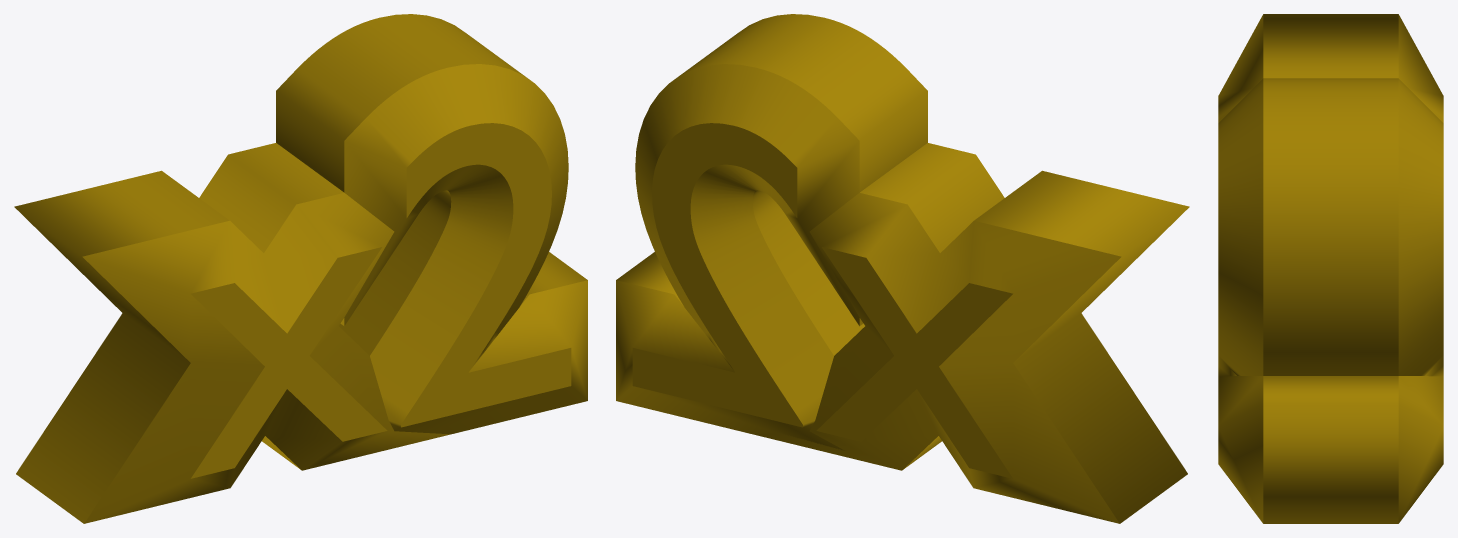
File: itemx2.dae
3 views of the same model, side by side, from view 1: azimuth 30°, elevation 25°; view 2: azimuth 150°, elevation 25°; view 3: azimuth 270°, elevation 25° (orthographic).
Visible parts, largest first — view 1: Text; view 2: Text; view 3: Text.
Part boxes in pixels (x1,y1,x2,y2): Text: (14, 14, 587, 523); Text: (616, 14, 1189, 523); Text: (1218, 14, 1443, 523).
Size of the model in its own units: 0.1013 by 0.0395 by 0.0703.
